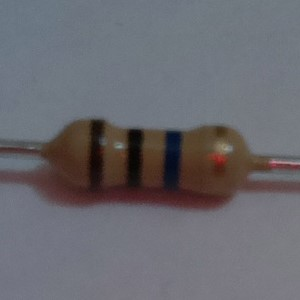black_band: (124, 126, 145, 191)
blue_band: (160, 127, 185, 194)
brown_band: (87, 114, 107, 196)
gold_band: (211, 122, 233, 200)
